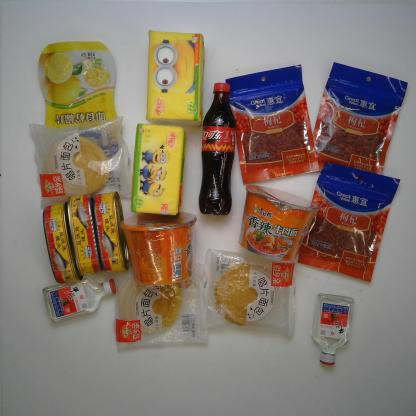Alcohol: (40, 272, 119, 327), (310, 292, 356, 368)
Canned Food: (40, 201, 85, 287), (64, 191, 106, 280), (91, 190, 131, 275)
Dessert: (23, 112, 138, 212), (198, 243, 300, 340), (110, 260, 214, 354)
Dried Fruit: (295, 159, 402, 286), (222, 63, 322, 186), (310, 60, 410, 181), (36, 38, 124, 164)
Drink: (196, 81, 238, 218)
Instant Noodles: (236, 182, 321, 264), (117, 207, 198, 289)
Tissue: (143, 27, 208, 130), (131, 120, 188, 217)
